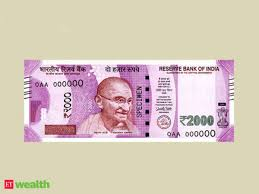twoThousand: (34, 73, 223, 128)
